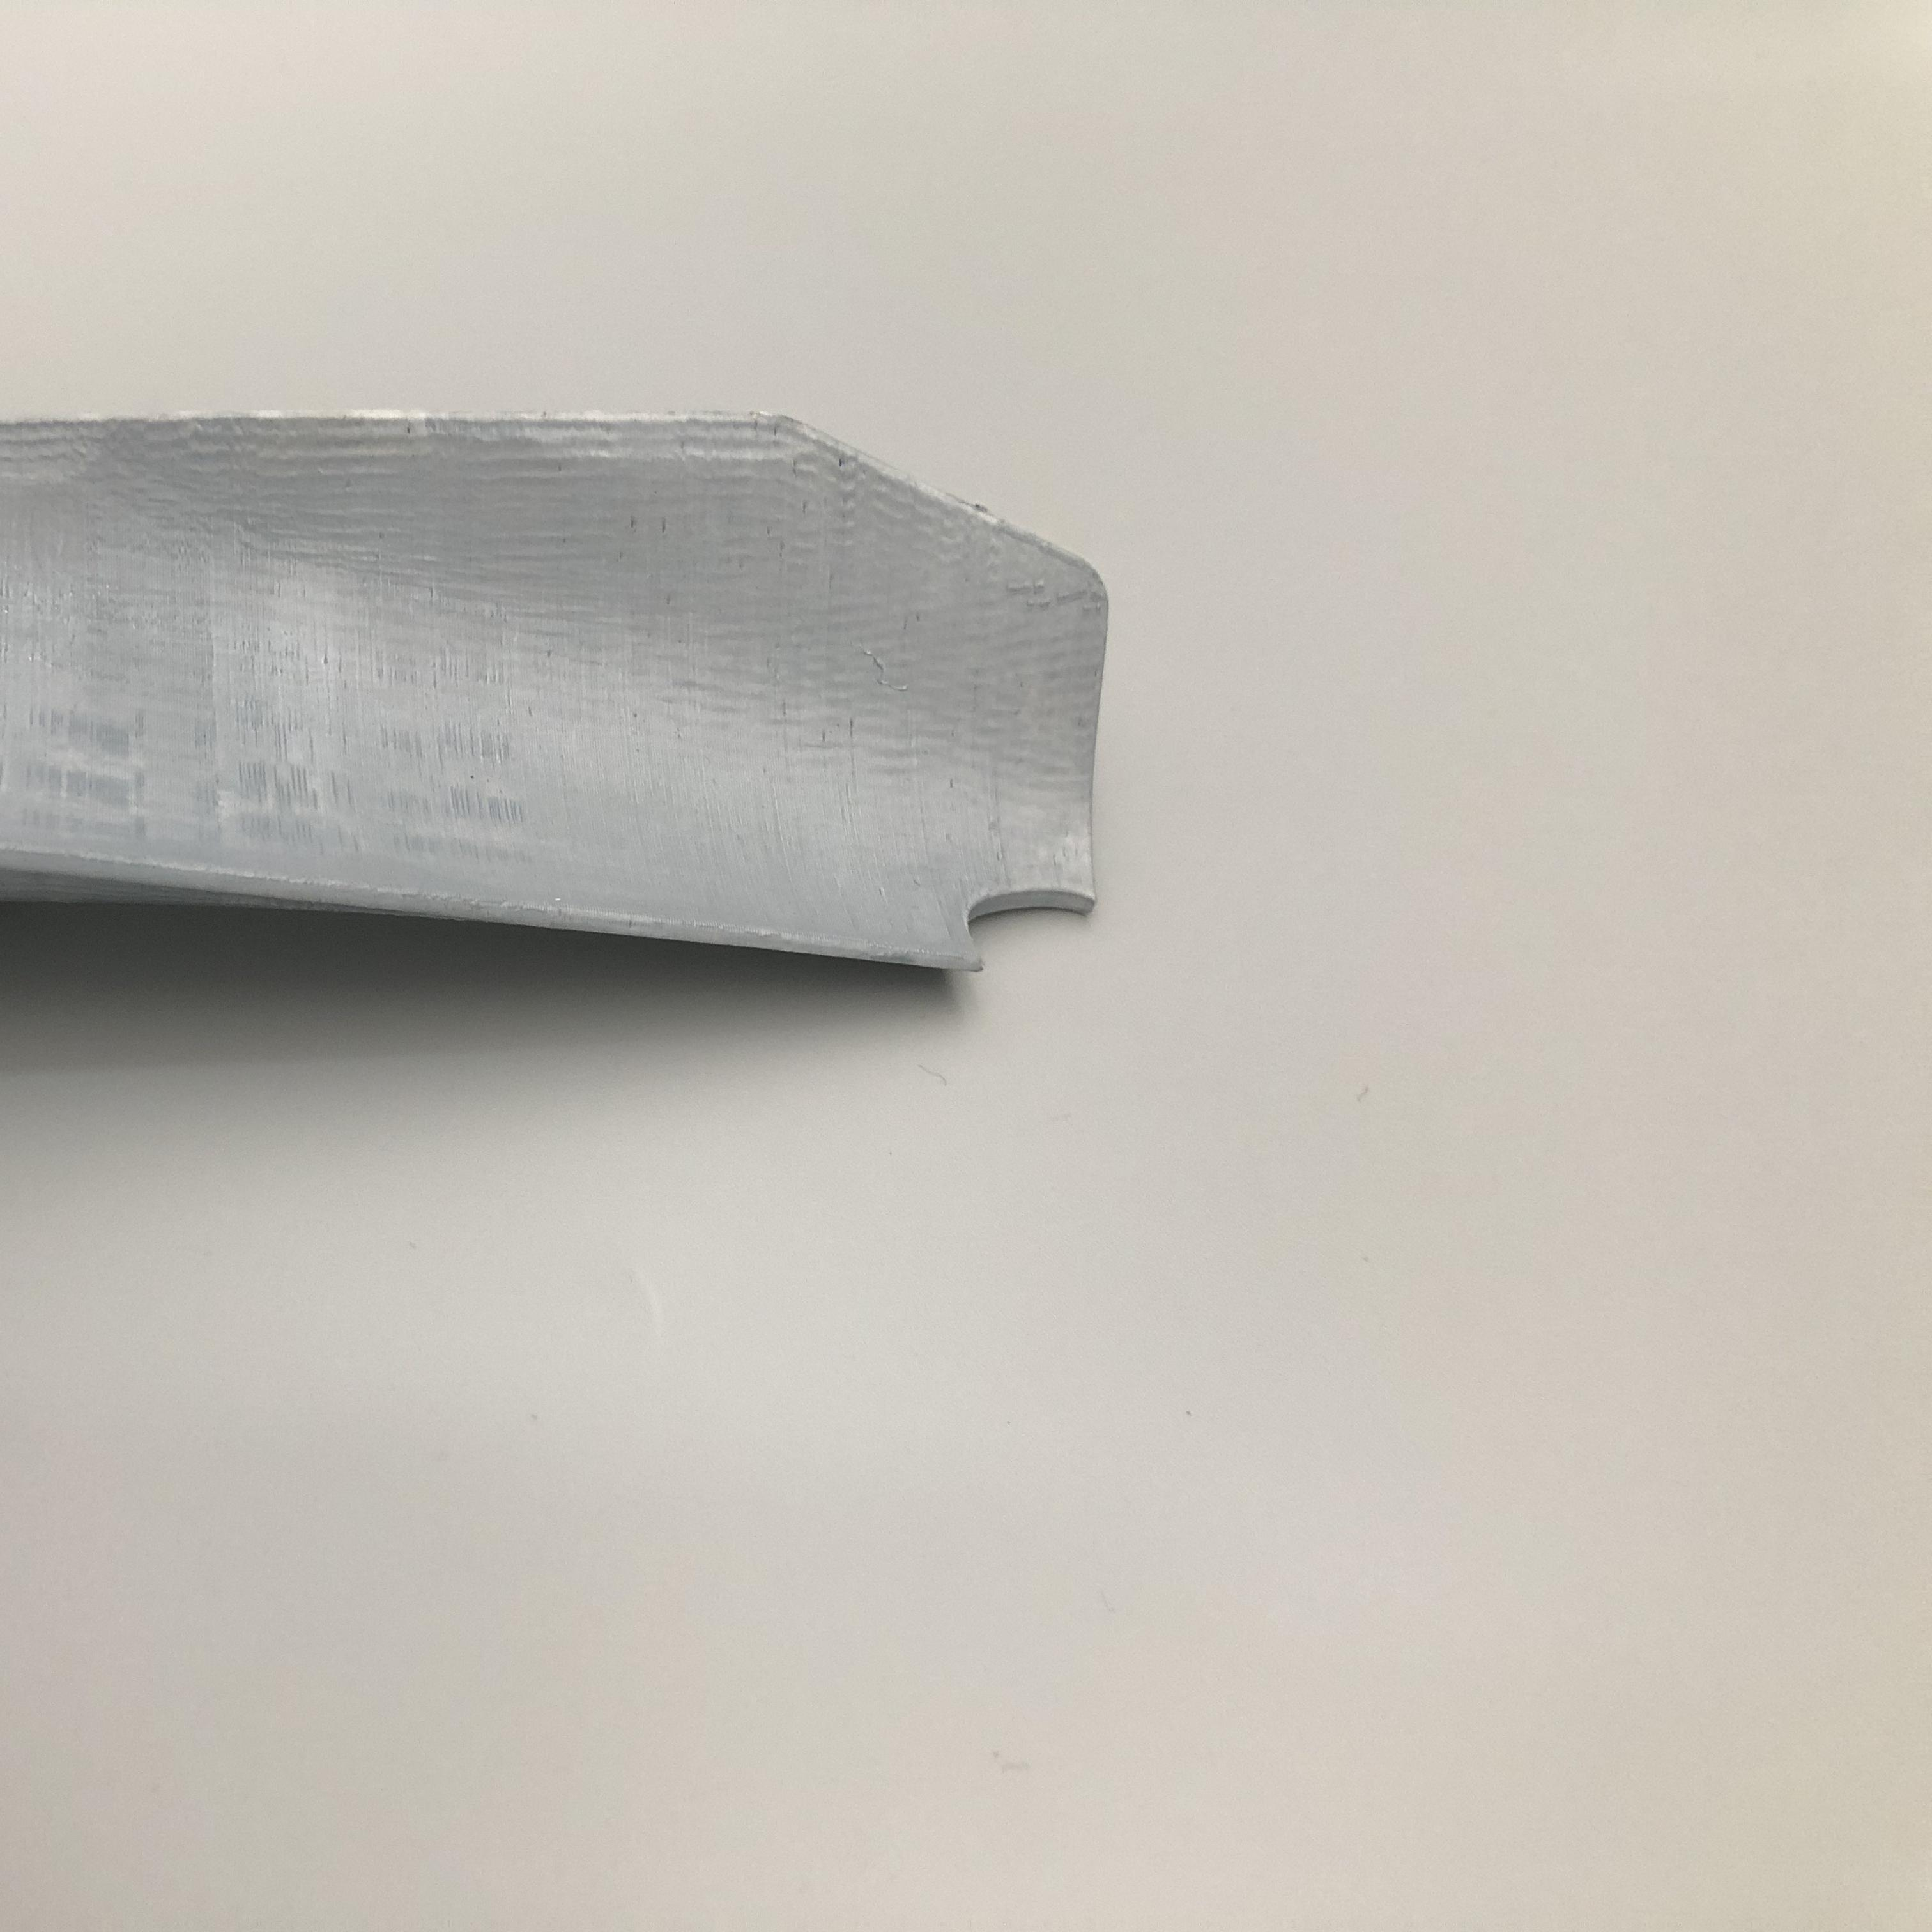fracture: (962, 870, 1083, 970)
